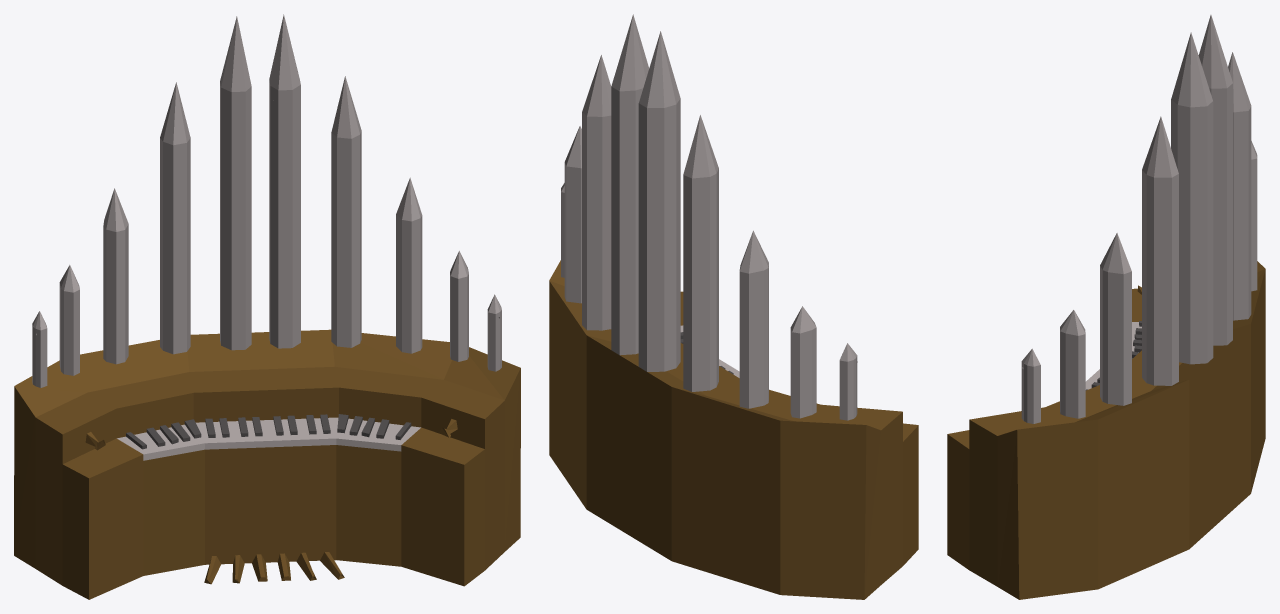
The model's file is pipe_organ.glb.
The picture shows the model from 3 angles, left to right: view 1: azimuth 30°, elevation 25°; view 2: azimuth 150°, elevation 25°; view 3: azimuth 270°, elevation 25°; orthographic projection. The views are drawn at different scales.
Visible parts, largest first — view 1: Object Church organ 2023-10-25_21-15-08; view 2: Object Church organ 2023-10-25_21-15-08; view 3: Object Church organ 2023-10-25_21-15-08.
Part boxes in pixels (x1=…): Object Church organ 2023-10-25_21-15-08: x1=14, y1=14, x2=520, y2=599; Object Church organ 2023-10-25_21-15-08: x1=549, y1=14, x2=918, y2=599; Object Church organ 2023-10-25_21-15-08: x1=947, y1=15, x2=1265, y2=599.
Bounding box in the file's own units: 1.9 × 2.26 × 1.31.
